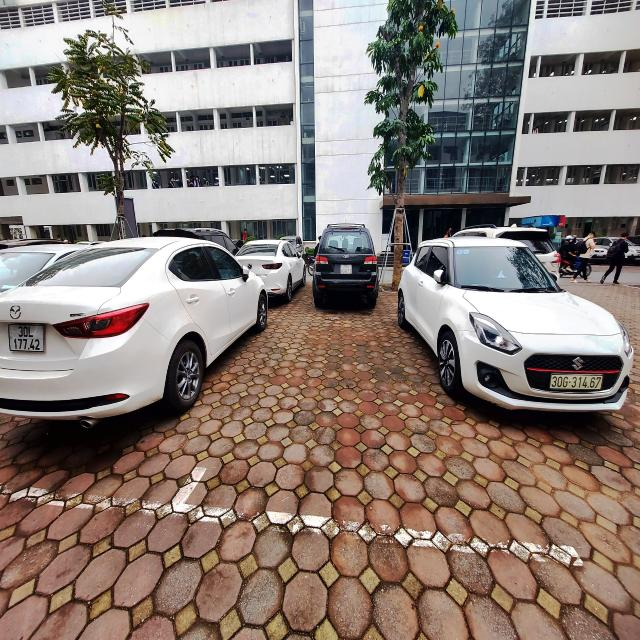license_plate: (10, 325, 45, 353), (550, 375, 604, 391), (341, 264, 353, 275)
